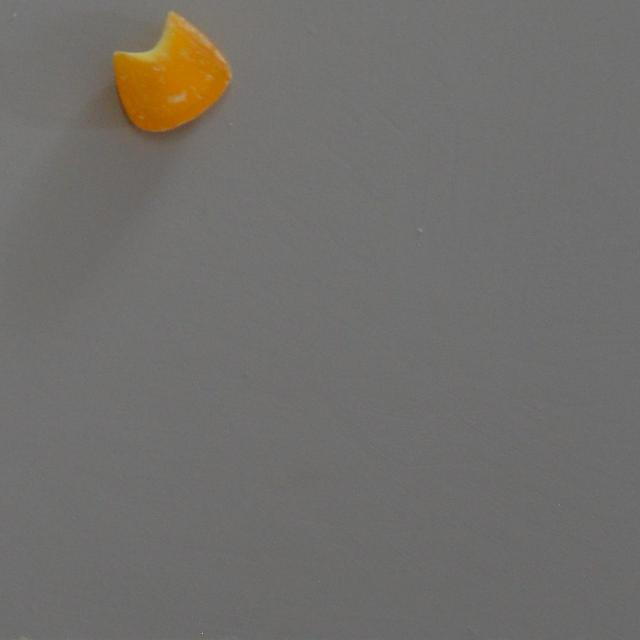pelicula: (111, 8, 232, 132)
